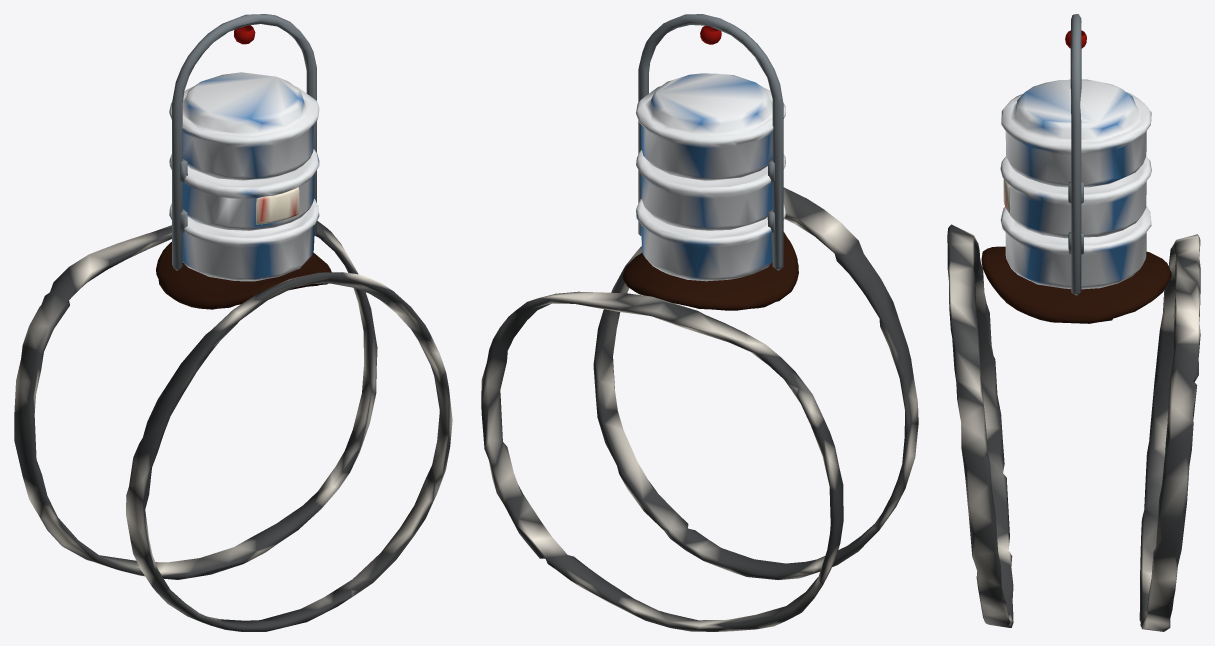
File: camen.glb
3 renders of one model, left to right at view 1: azimuth 30°, elevation 25°; view 2: azimuth 150°, elevation 25°; view 3: azimuth 270°, elevation 25°, orthographic.
Parts seen in each view (by area): view 1: Day_Buoc, Ca_Men, Khung_Cam, De_Lot, Tem; view 2: Day_Buoc, Ca_Men, De_Lot, Khung_Cam; view 3: Day_Buoc, Ca_Men, De_Lot, Khung_Cam.
Part boxes in pixels (x1,y1,x2,y2): Day_Buoc: (14,220,452,631); Ca_Men: (169,72,319,281); Khung_Cam: (172,14,316,270); De_Lot: (156,242,331,309); Tem: (256,187,299,224); Day_Buoc: (481,187,918,631); Ca_Men: (636,73,785,281); De_Lot: (622,232,798,310); Khung_Cam: (638,14,783,270); Day_Buoc: (947,224,1200,631); Ca_Men: (1000,79,1151,289); De_Lot: (981,246,1171,323); Khung_Cam: (1070,14,1081,295).
Size of the model in its own units: 0.2593 by 0.4059 by 0.1581.
